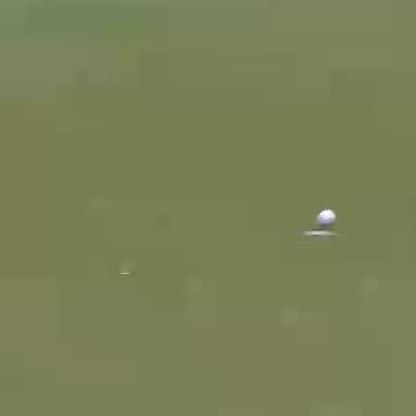golfball: (316, 207, 334, 225)
